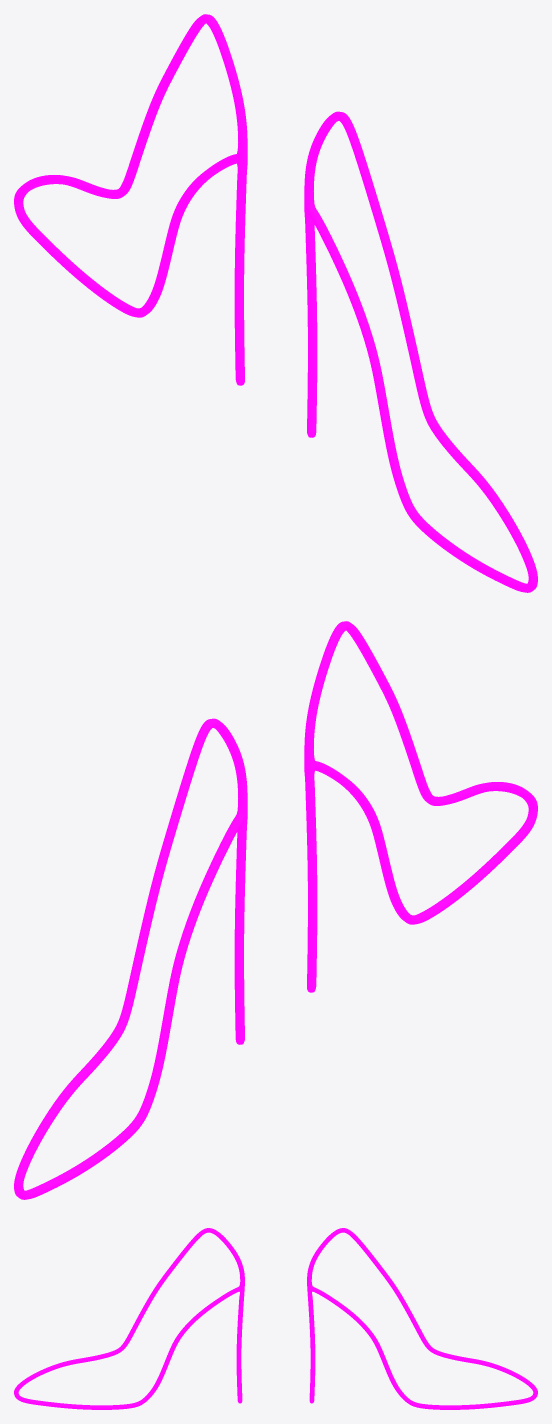
The model's file is heels.fbx.
3 views of the same model, one above another, from view 1: azimuth 30°, elevation 25°; view 2: azimuth 150°, elevation 25°; view 3: azimuth 270°, elevation 25° (orthographic). The views are drawn at different scales.
Parts seen in each view (by area): view 1: neon_shoe.001, neon_shoe; view 2: neon_shoe, neon_shoe.001; view 3: neon_shoe, neon_shoe.001.
Part boxes in pixels (x1,y1,x2,y2): neon_shoe.001: (304,111,537,592); neon_shoe: (14,14,247,385); neon_shoe: (14,718,247,1199); neon_shoe.001: (304,621,537,992); neon_shoe: (307,1228,537,1409); neon_shoe.001: (14,1228,244,1409).
Size of the model in its own units: 5.93 by 232 by 606.
